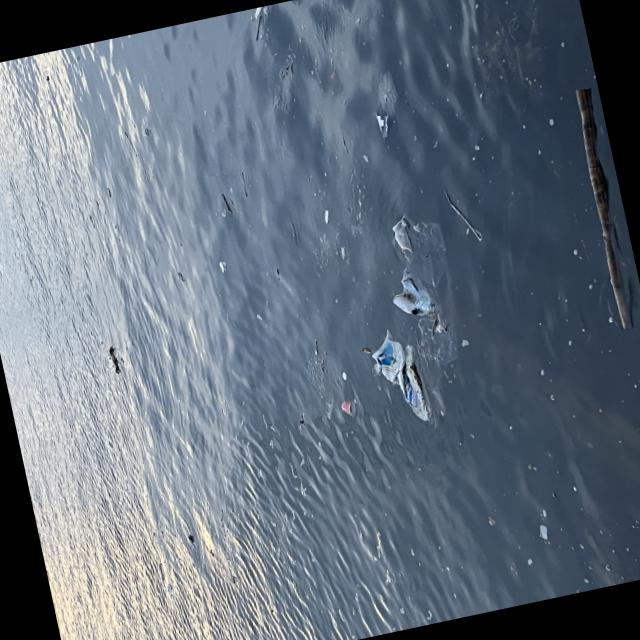foam: (253, 7, 264, 20), (324, 209, 332, 224), (219, 261, 229, 273)
plastic bag: (371, 339, 440, 419)
plastic bottle: (391, 292, 418, 320)
